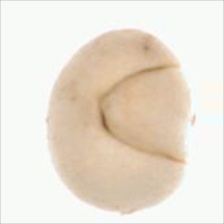L5: (98, 61, 192, 167), (45, 84, 61, 153)
L6: (45, 23, 196, 214)
